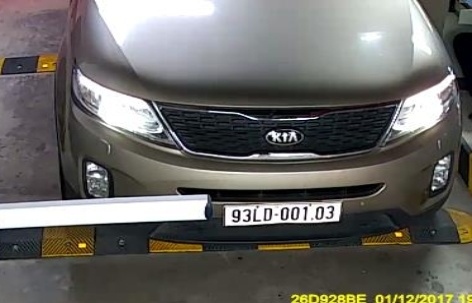plate: (221, 199, 343, 230)
